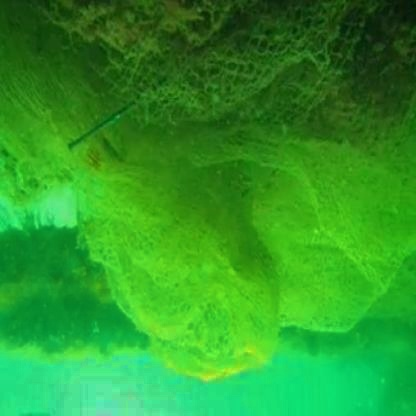net: (90, 90, 404, 328)
